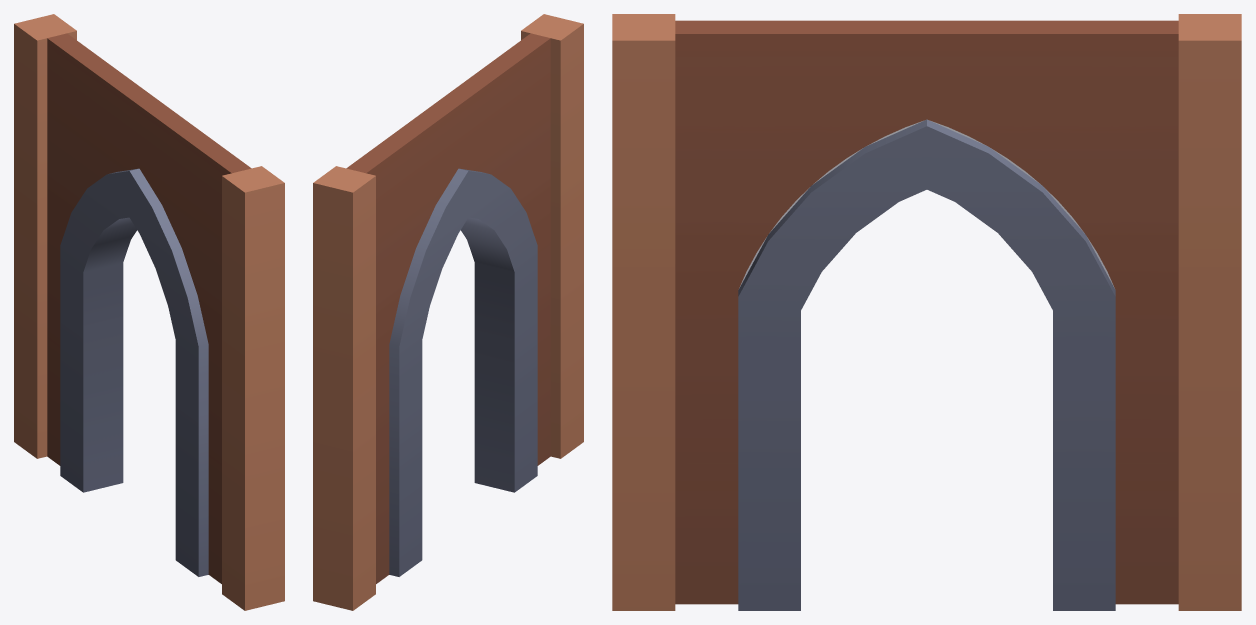
File: wall-wood-doorway-round.glb
3 renders of one model, left to right at view 1: azimuth 30°, elevation 25°; view 2: azimuth 150°, elevation 25°; view 3: azimuth 270°, elevation 25°, orthographic. The views are drawn at different scales.
Parts seen in each view (by area): view 1: wall-wood-doorway-round; view 2: wall-wood-doorway-round; view 3: wall-wood-doorway-round.
Part boxes in pixels (x1,y1,x2,y2): wall-wood-doorway-round: (14, 14, 284, 610); wall-wood-doorway-round: (313, 14, 583, 610); wall-wood-doorway-round: (612, 14, 1241, 610).
Bounding box in the file's own units: 0.1 × 1 × 1.
Materials: 1 (1 with a texture image).
